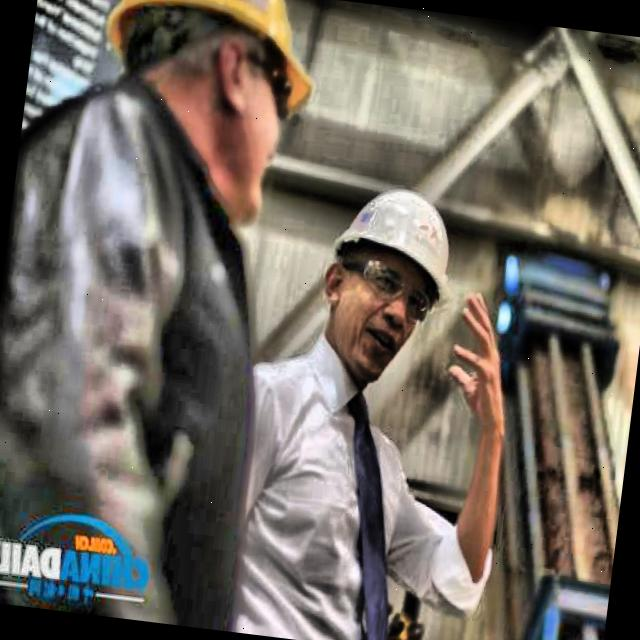helmet: (69, 0, 340, 250), (304, 163, 475, 386)
